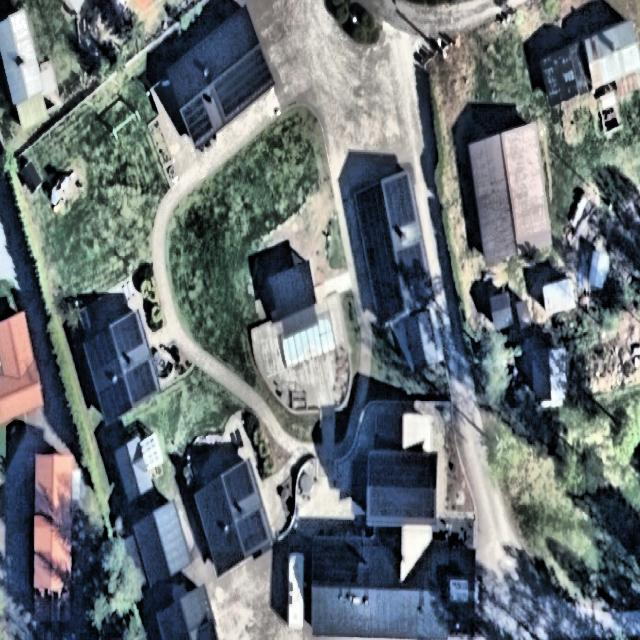roof_pv: (214, 49, 274, 116), (386, 178, 418, 228), (102, 383, 136, 428), (113, 314, 147, 357), (226, 466, 257, 512), (182, 101, 215, 142), (85, 331, 116, 371), (122, 365, 158, 399), (240, 512, 269, 551)
